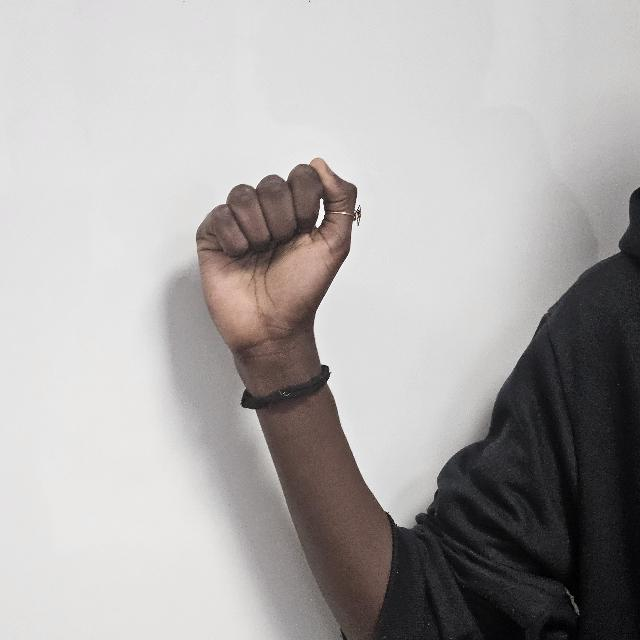Quadro: (196, 157, 360, 363)
